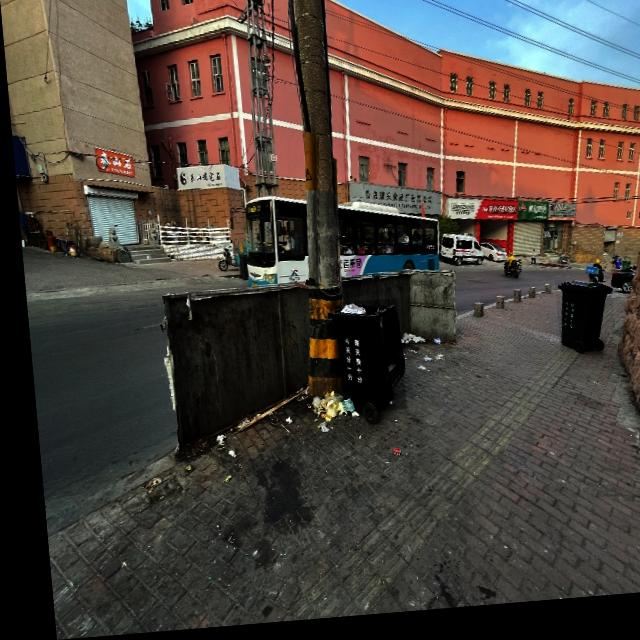garbage: (296, 386, 352, 438), (392, 334, 438, 377)
garbage_bin: (549, 286, 609, 361)
overflow: (319, 304, 399, 420)
